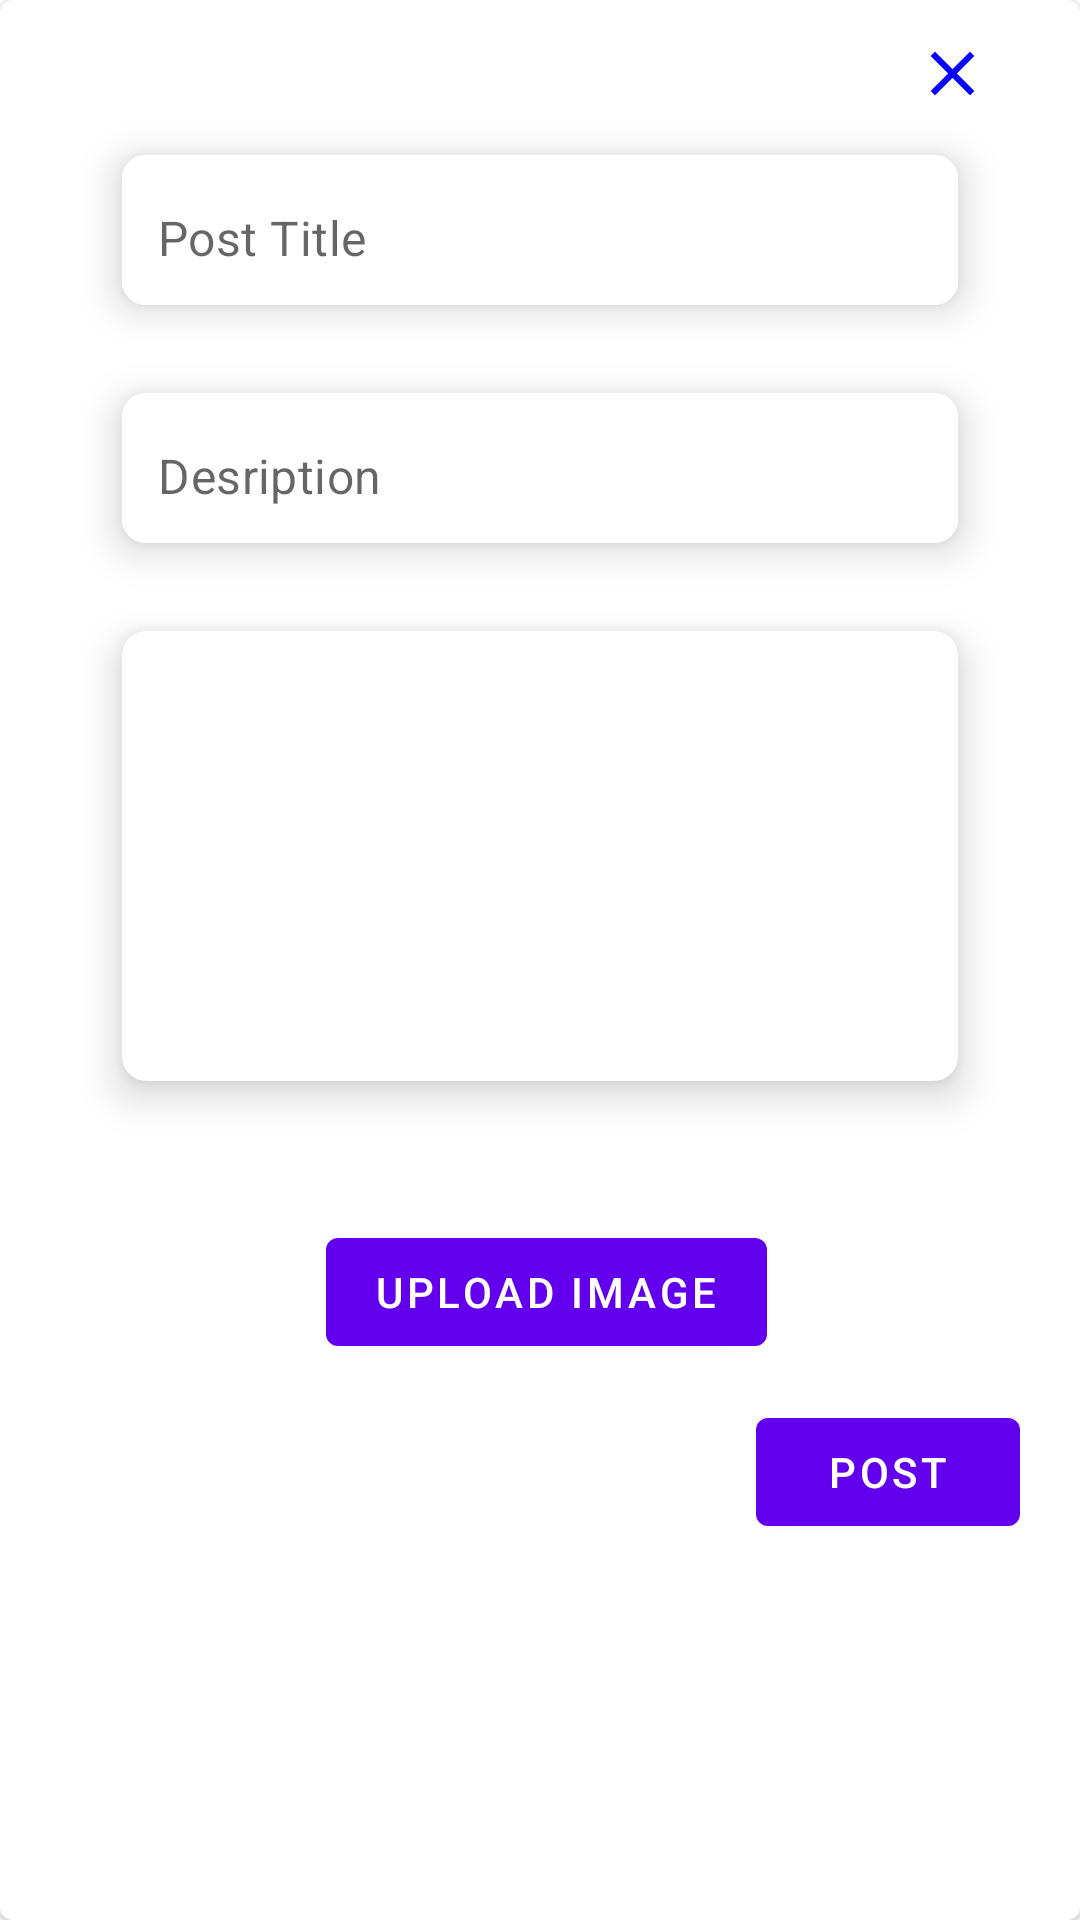

Locate icon controls on the screen. Image size 1080px×1920px, boxes as bbox=[x1, y1, x2, y2].
close: bbox=[931, 52, 974, 95]
